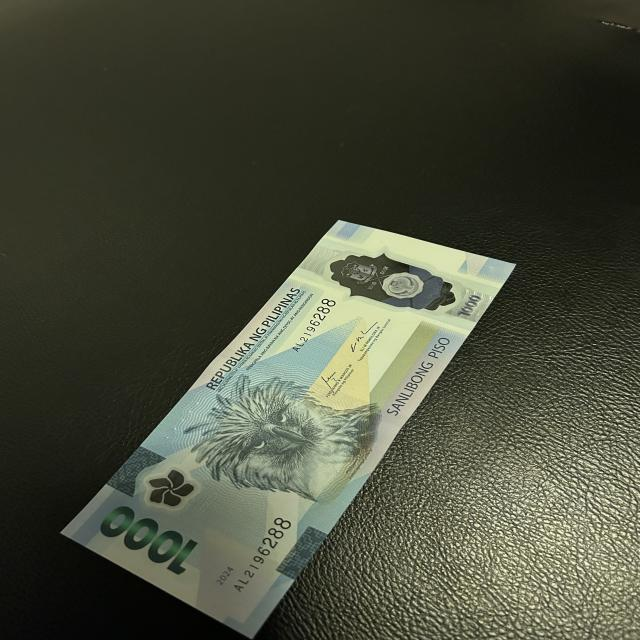clear_window: (316, 252, 460, 312)
eagle: (205, 377, 370, 498)
sampaguita: (142, 471, 204, 511)
